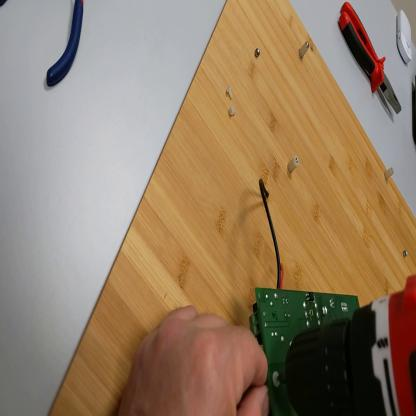hand: (120, 307, 271, 415)
low voltage board: (249, 180, 361, 416)
pliers: (340, 1, 403, 116), (46, 2, 86, 86)
working area: (49, 3, 416, 415)
